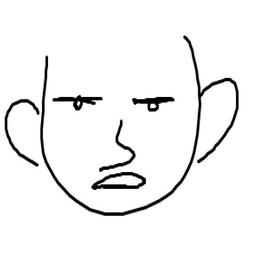ear: (1, 94, 43, 167)
large_ear: (188, 79, 240, 164)
nose: (97, 120, 140, 170)
open_mouth: (89, 171, 148, 194)
small_eye: (50, 87, 103, 114), (130, 91, 174, 112)
